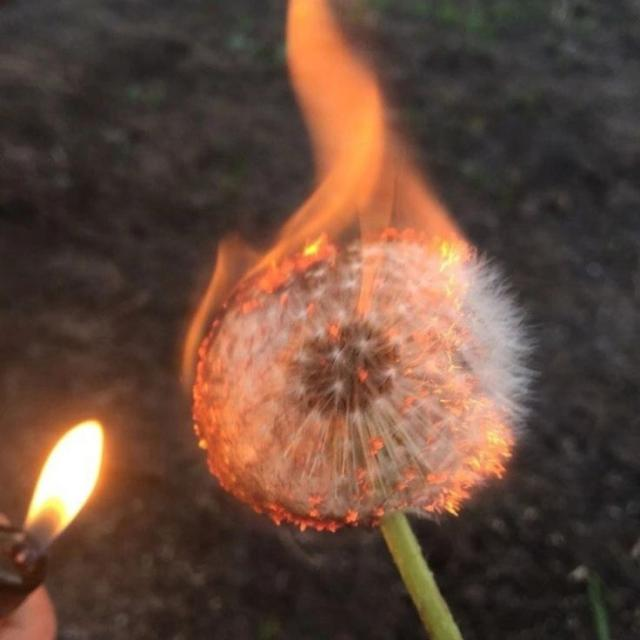fire: (181, 0, 515, 533), (17, 417, 106, 560)
